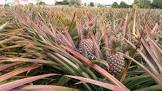Pineapple: (106, 30, 126, 75), (77, 19, 94, 58)
